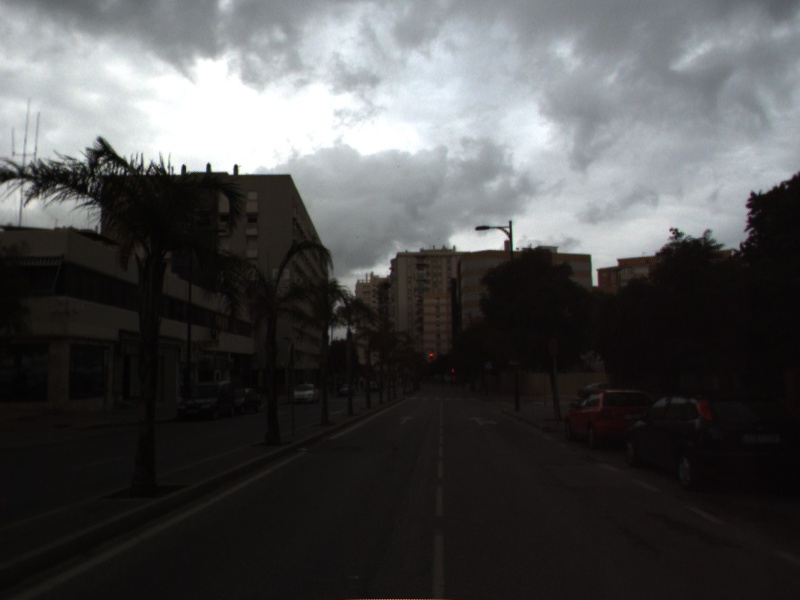STRAIGHT: (397, 414, 416, 427)
STRAIGHT_RIGHT: (467, 414, 499, 427)
